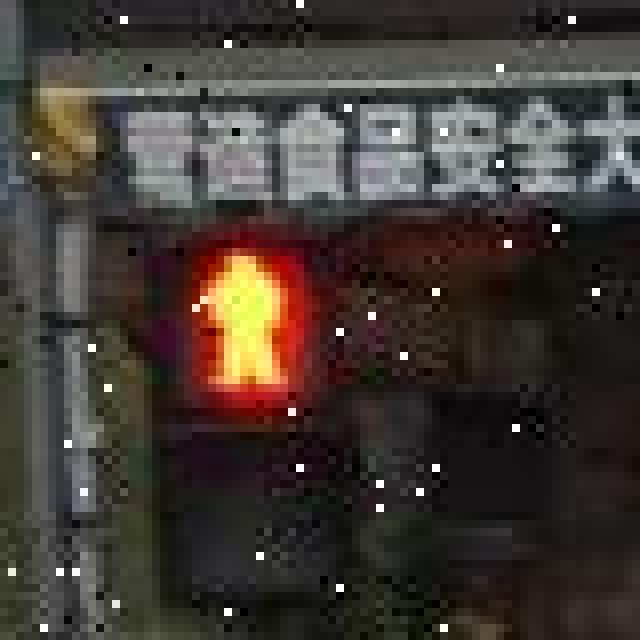redlight: (136, 228, 360, 634)
